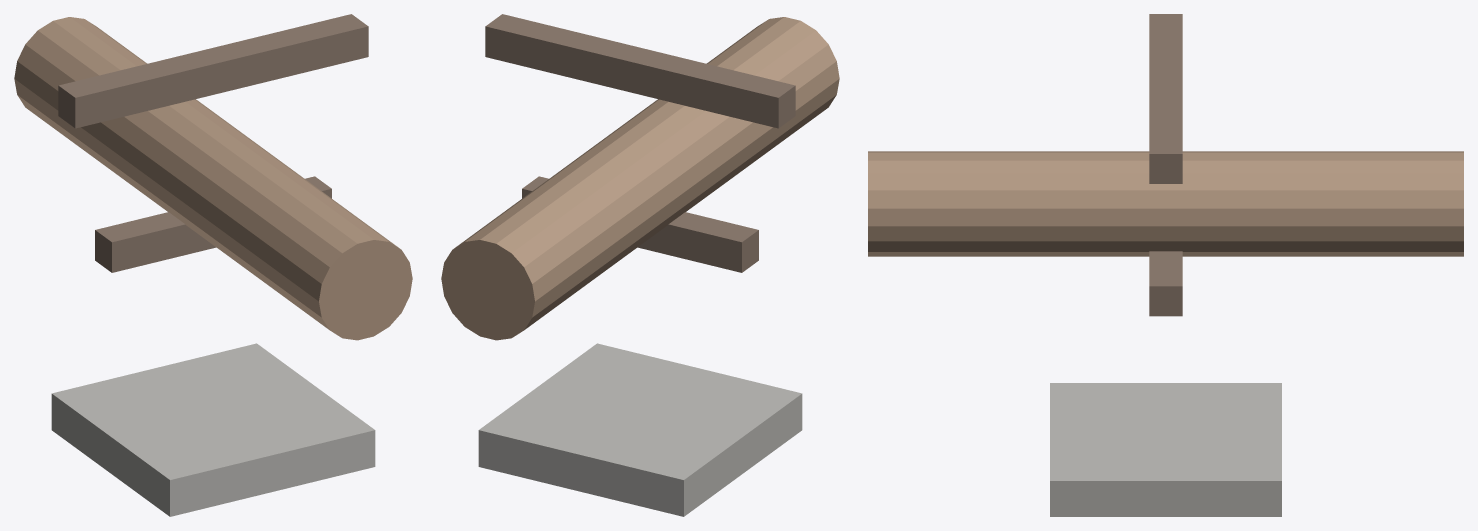
Rendered from martial_arts_dummy.glb.
3 renders of one model, left to right at view 1: azimuth 30°, elevation 25°; view 2: azimuth 150°, elevation 25°; view 3: azimuth 270°, elevation 25°, orthographic. The views are drawn at different scales.
Parts seen in each view (by area): view 1: part_00, part_03, part_01, part_02; view 2: part_00, part_03, part_01, part_02; view 3: part_00, part_03, part_01, part_02.
Part boxes in pixels (box(x1,y1,x2,y2)): part_00: box(14, 17, 412, 340); part_03: box(51, 343, 375, 516); part_01: box(58, 14, 368, 128); part_02: box(95, 176, 331, 272); part_00: box(441, 17, 839, 340); part_03: box(478, 343, 802, 516); part_01: box(485, 14, 795, 128); part_02: box(522, 176, 758, 272); part_00: box(868, 151, 1463, 256); part_03: box(1050, 383, 1281, 516); part_01: box(1149, 14, 1182, 183); part_02: box(1149, 251, 1182, 316).
Size of the model in its own units: 1 by 1.28 by 1.8.
